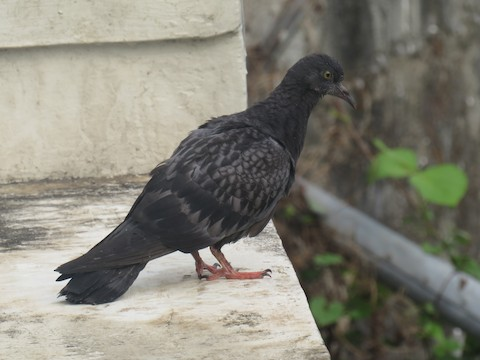pigeon: (50, 51, 360, 312)
